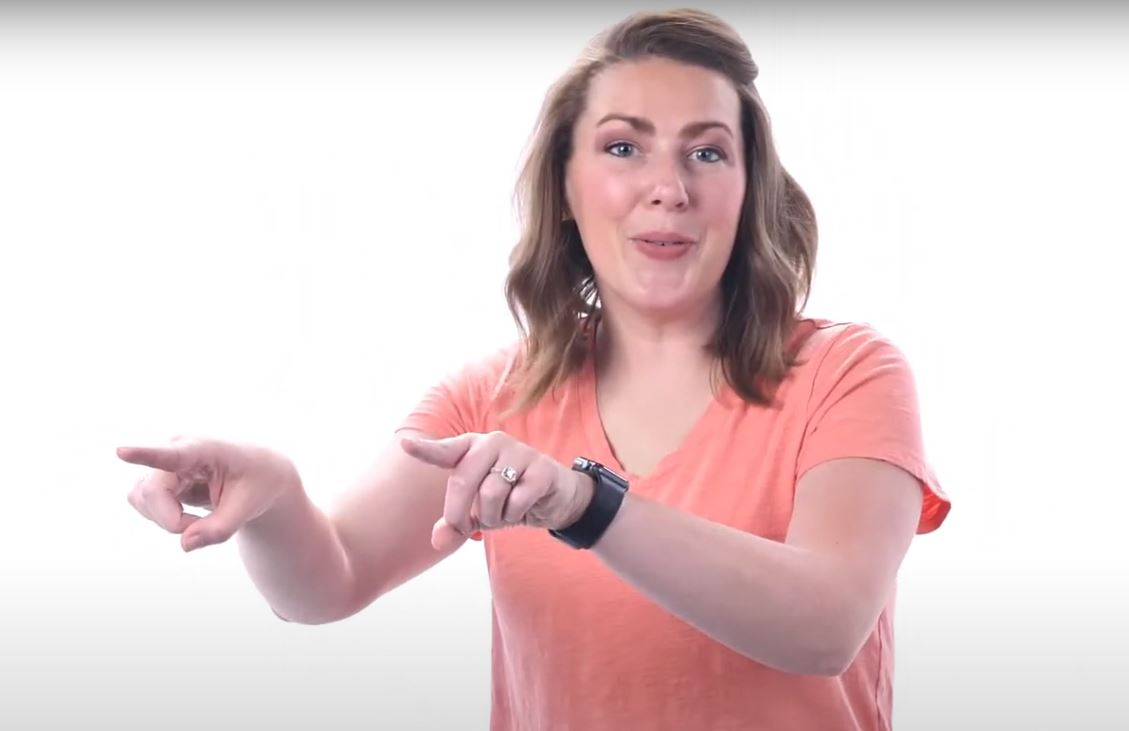go: (92, 410, 686, 638)
